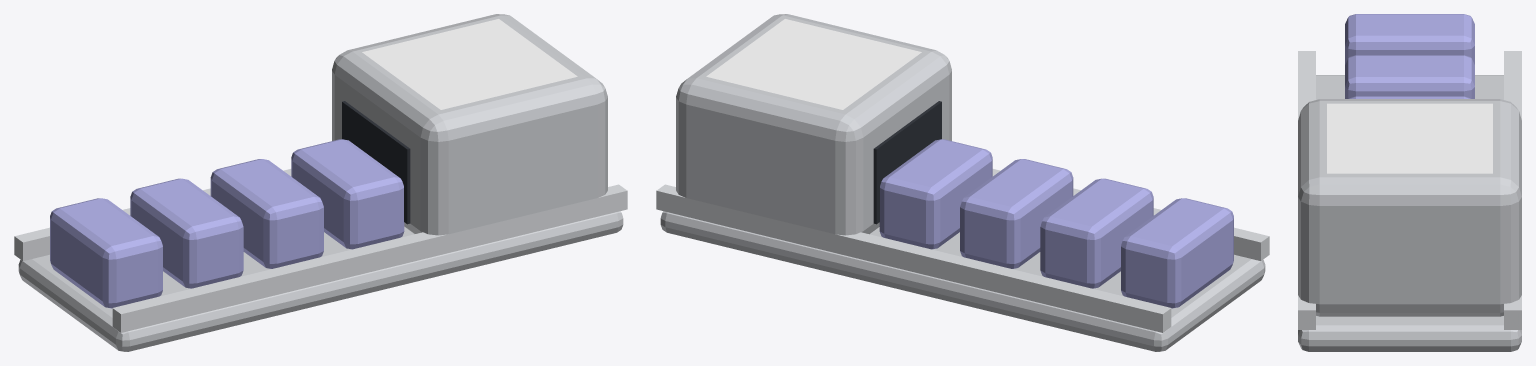
The model's file is queue.glb.
3 views of the same model, side by side, from view 1: azimuth 30°, elevation 25°; view 2: azimuth 150°, elevation 25°; view 3: azimuth 270°, elevation 25° (orthographic). The views are drawn at different scales.
Visible parts, largest first — view 1: q_head, q_tray, q_rails, q_logo, q_msg0, q_msg1, q_msg2, q_msg3, q_mouth; view 2: q_head, q_tray, q_rails, q_logo, q_msg0, q_msg1, q_msg2, q_msg3, q_mouth; view 3: q_head, q_logo, q_tray, q_msg0, q_msg1, q_rails, q_msg2.
Boxes of the visible parts, x1,y1,x2,y2 form: q_head: [332, 14, 607, 235]; q_tray: [18, 211, 623, 351]; q_rails: [14, 169, 627, 332]; q_logo: [362, 19, 577, 109]; q_msg0: [50, 198, 162, 308]; q_msg1: [130, 178, 243, 288]; q_msg2: [210, 159, 323, 268]; q_msg3: [291, 139, 404, 249]; q_mouth: [342, 101, 410, 224]; q_head: [676, 14, 951, 235]; q_tray: [660, 211, 1265, 351]; q_rails: [656, 169, 1269, 332]; q_logo: [706, 19, 921, 109]; q_msg0: [1121, 198, 1233, 308]; q_msg1: [1040, 178, 1153, 288]; q_msg2: [960, 159, 1073, 268]; q_msg3: [879, 139, 992, 249]; q_mouth: [873, 101, 941, 224]; q_head: [1298, 99, 1521, 316]; q_logo: [1327, 103, 1492, 173]; q_tray: [1298, 75, 1521, 351]; q_msg0: [1345, 14, 1474, 64]; q_msg1: [1345, 55, 1474, 98]; q_rails: [1298, 51, 1521, 329]; q_msg2: [1349, 96, 1470, 98].
Bounding box in the file's own units: 1.7 × 0.5015 × 0.62.
